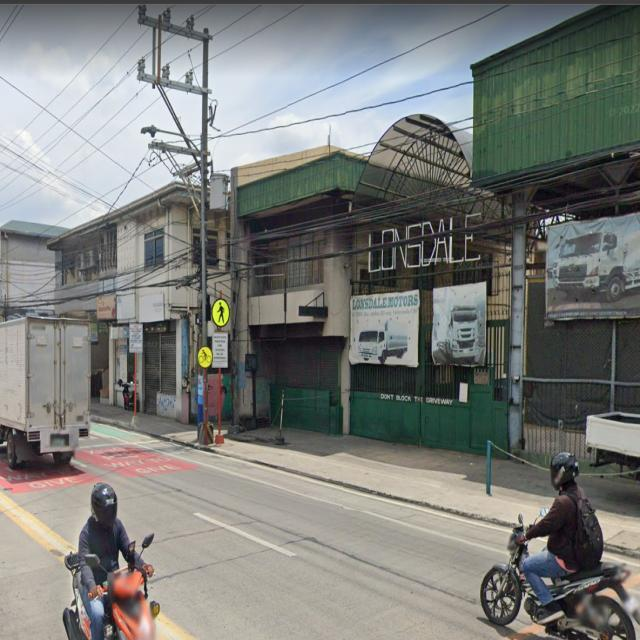bike lane: (197, 346, 213, 369)
pedestrian crossing: (212, 298, 230, 327)
